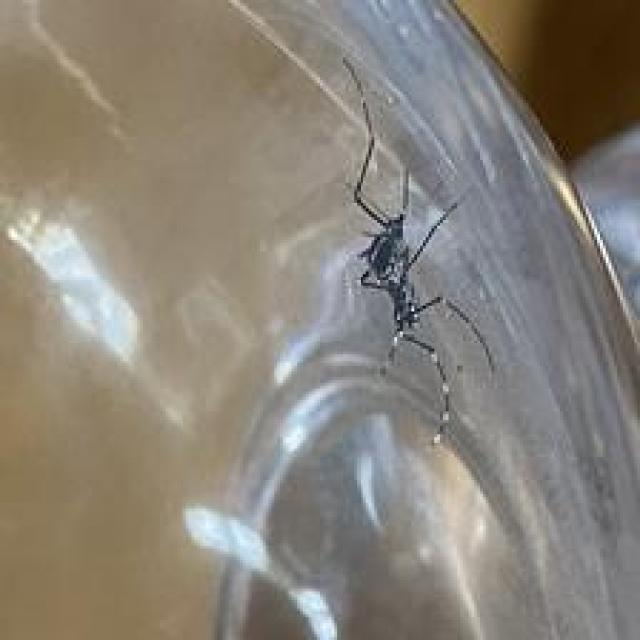Aedes albopictus: (338, 54, 496, 449)
